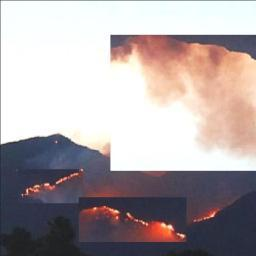Heavy smoke: (110, 31, 255, 173)
Large fire: (77, 196, 187, 244), (16, 172, 81, 203)
